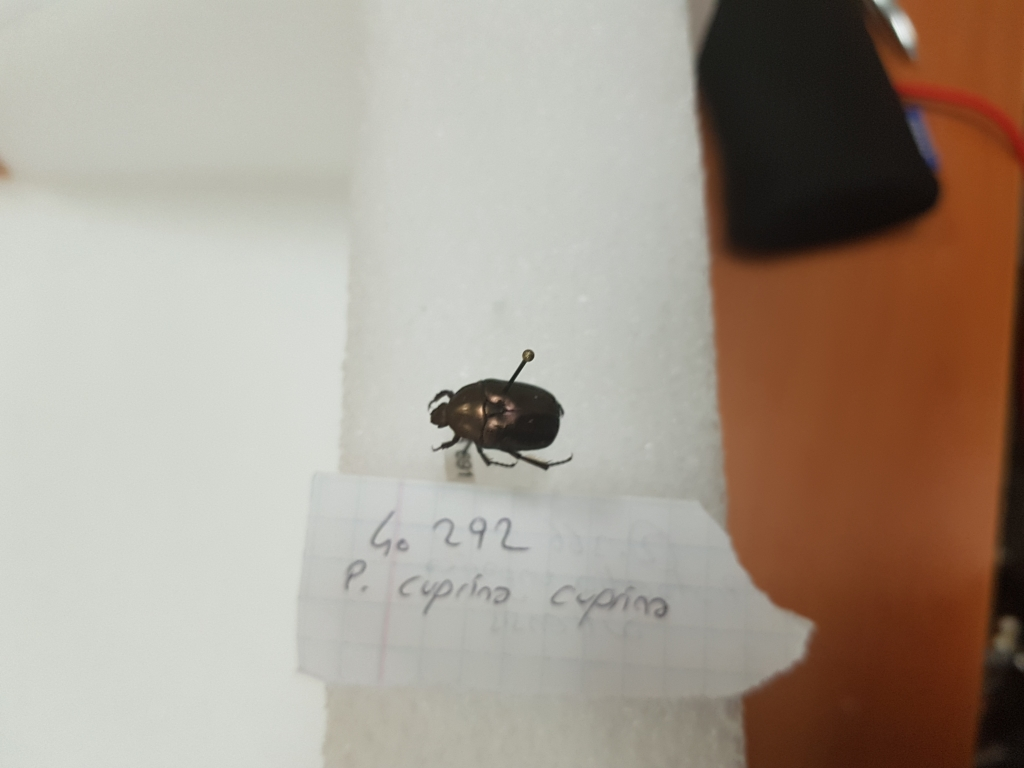Protaetia_cuprina_cuprina: (423, 373, 585, 481)
